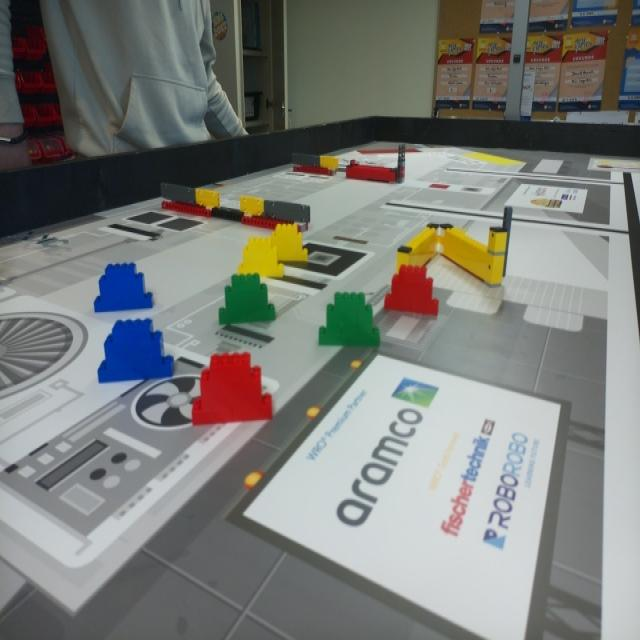blau: (100, 319, 171, 379), (91, 263, 153, 308)
gruen: (316, 289, 381, 349), (221, 271, 276, 329)
rot: (191, 352, 272, 425), (385, 263, 438, 314)
yellow: (240, 237, 283, 277), (269, 224, 307, 264)
